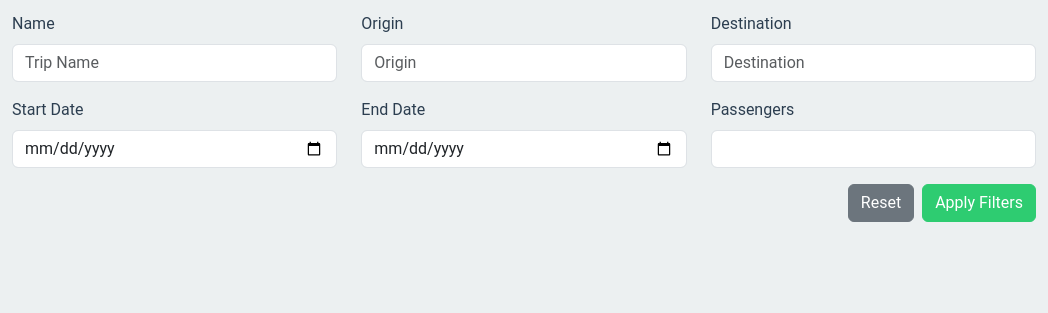
Test case: TripFilterForm › validates passenger count
The image size is (1048, 313).
In the number field named "passengers": (873, 149) [711,130,1036,168], type "-1"
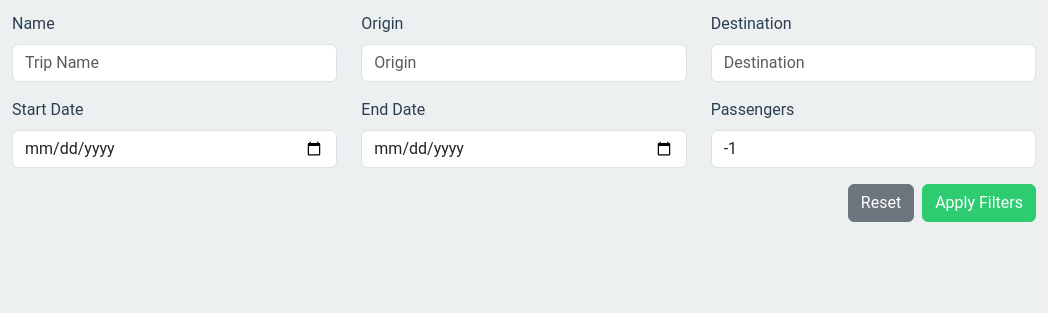
Click the button "Apply Filters": (979, 203) [922,184,1036,222]
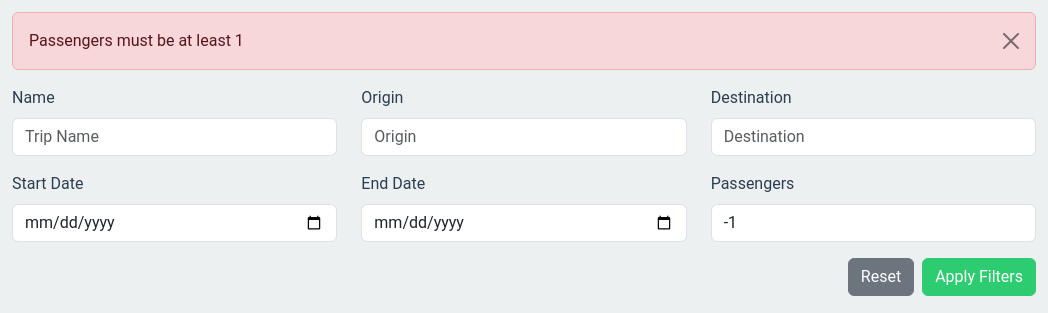
Result: the message reads "Passengers must be at least 1" at [29,31,244,50]
